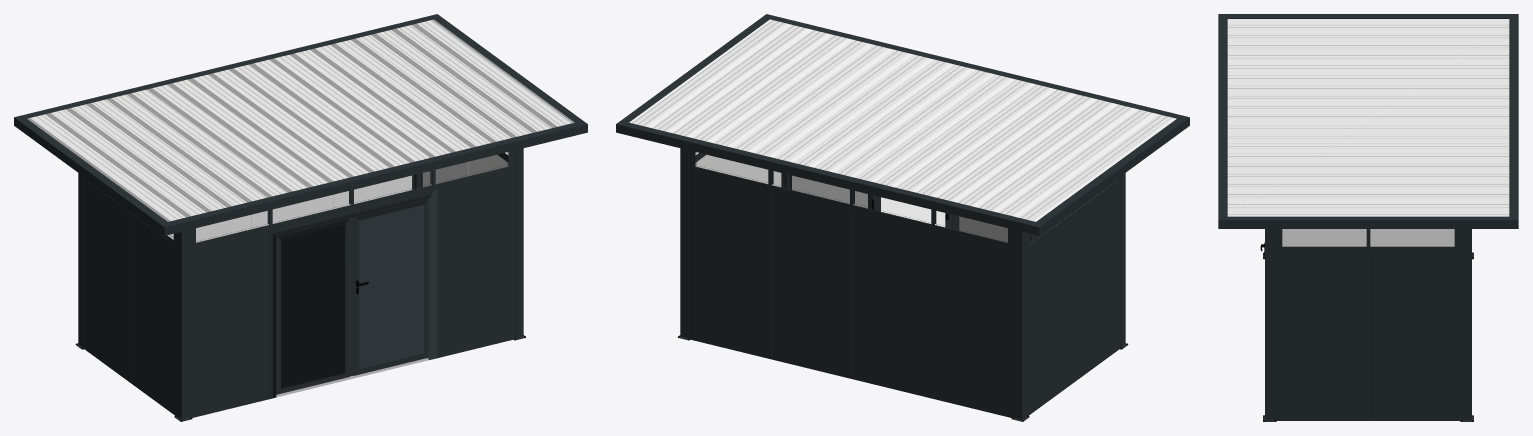
3 renders of one model, left to right at view 1: azimuth 30°, elevation 25°; view 2: azimuth 150°, elevation 25°; view 3: azimuth 270°, elevation 25°, orthographic.
Visible parts, largest first — view 1: priximbattable_net_abris_de_jardin_640005_abri_de_jardin_mim, folha, folha_2, porta_avec_hublot; view 2: priximbattable_net_abris_de_jardin_640005_abri_de_jardin_mim, folha_2, folha; view 3: priximbattable_net_abris_de_jardin_640005_abri_de_jardin_mim.
Part boxes in pixels (x1,y1,x2,y2): priximbattable_net_abris_de_jardin_640005_abri_de_jardin_mim: (14,14,587,421); folha: (276,217,354,394); folha_2: (353,199,428,375); porta_avec_hublot: (268,188,436,399); priximbattable_net_abris_de_jardin_640005_abri_de_jardin_mim: (616,14,1189,421); folha_2: (872,195,952,228); folha: (952,214,1031,242); priximbattable_net_abris_de_jardin_640005_abri_de_jardin_mim: (1218,14,1518,421).
Bounding box in the file's own units: 520 × 259 × 320.
Materials: 1 (1 with a texture image).
